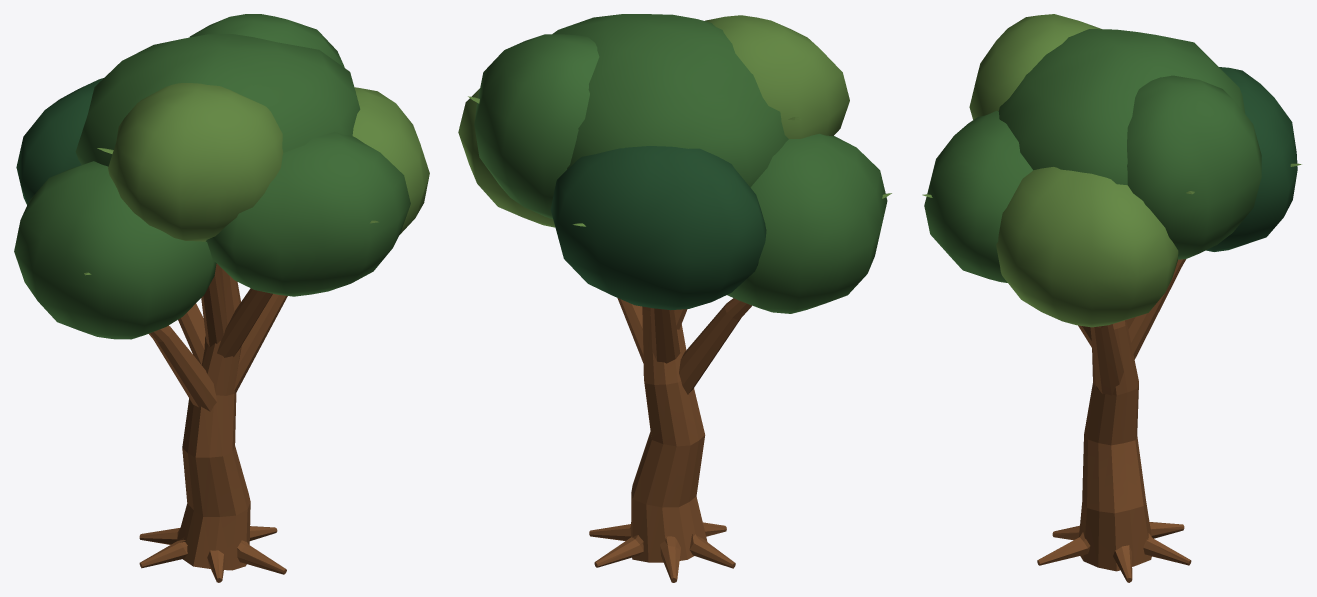
Rendered from Plant_Forest_BroadleafTree_001.glb.
The picture shows the model from 3 angles, left to right: view 1: azimuth 30°, elevation 25°; view 2: azimuth 150°, elevation 25°; view 3: azimuth 270°, elevation 25°; orthographic projection. The views are drawn at different scales.
Visible parts, largest first — view 1: FR_BroadleafTree_Body; view 2: FR_BroadleafTree_Body; view 3: FR_BroadleafTree_Body.
Boxes of the visible parts, x1=… form: FR_BroadleafTree_Body: x1=14, y1=14, x2=429, y2=582; FR_BroadleafTree_Body: x1=458, y1=14, x2=891, y2=582; FR_BroadleafTree_Body: x1=922, y1=14, x2=1301, y2=582.
Bounding box in the file's own units: 5.02 × 6.39 × 4.3.
